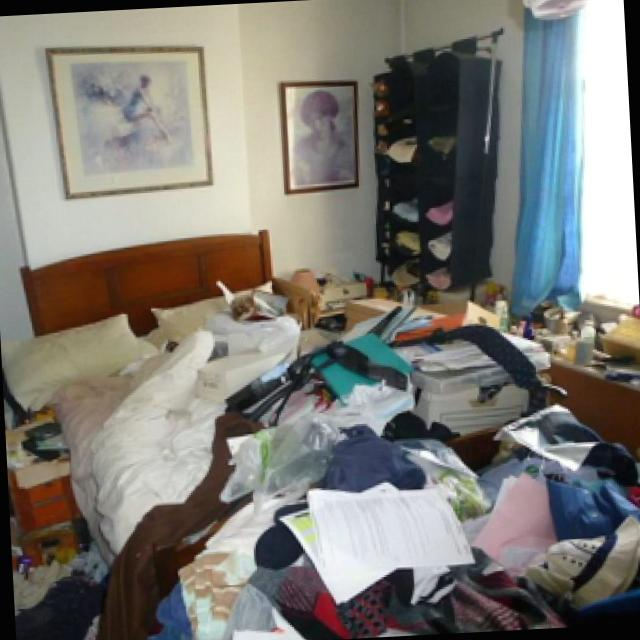mess: (133, 302, 492, 604), (382, 396, 586, 636), (515, 265, 640, 476), (508, 457, 640, 629), (9, 487, 134, 640), (3, 380, 79, 480)
